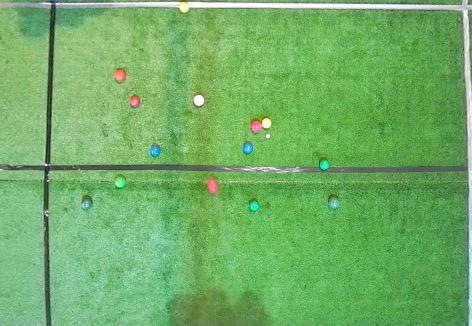blue: (150, 145, 161, 157), (243, 142, 253, 154)
green: (114, 176, 126, 188), (328, 196, 339, 209), (81, 199, 92, 211), (248, 200, 259, 211), (319, 159, 330, 170)
red: (114, 70, 127, 83), (207, 179, 219, 193), (193, 94, 205, 107), (251, 121, 262, 133), (130, 96, 141, 108)
vline: (1, 0, 57, 325), (459, 0, 471, 326)
white: (265, 133, 271, 138)
yellow: (178, 2, 189, 13), (262, 118, 272, 129)
